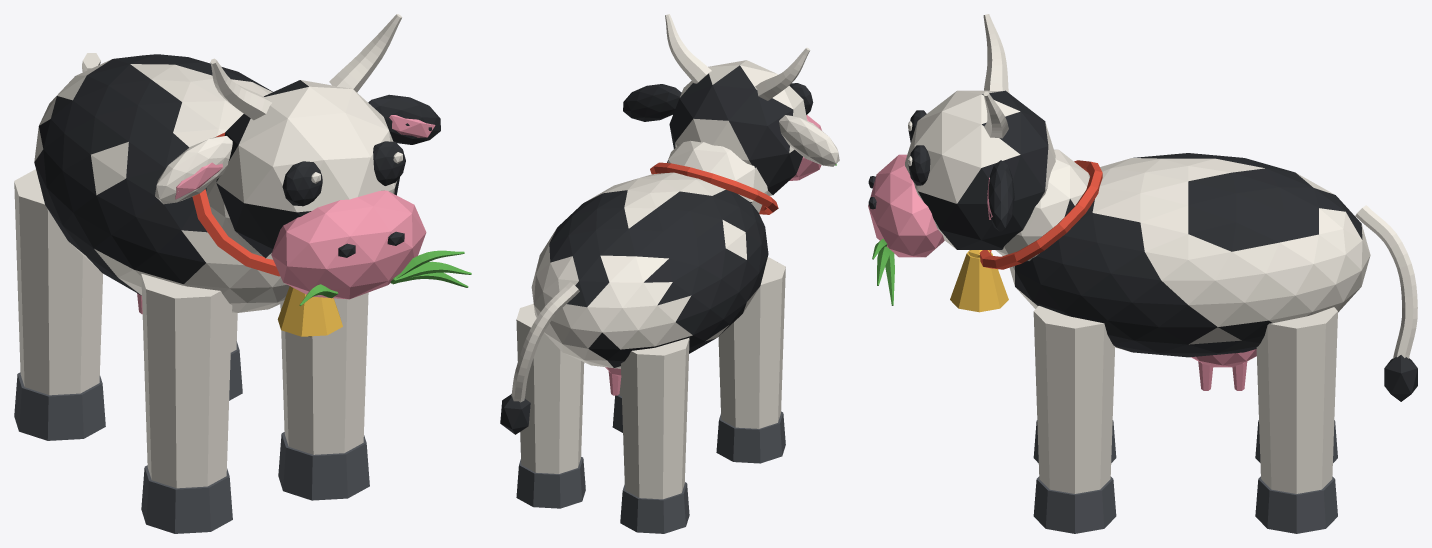
The model's file is chunky-low-poly-cow.glb.
The picture shows the model from 3 angles, left to right: view 1: azimuth 30°, elevation 25°; view 2: azimuth 150°, elevation 25°; view 3: azimuth 270°, elevation 25°; orthographic projection. The views are drawn at different scales.
Parts seen in each view (by area): view 1: Cow; view 2: Cow; view 3: Cow.
Part boxes in pixels (bbox=[...]): Cow: bbox=[14, 14, 471, 533]; Cow: bbox=[500, 14, 839, 533]; Cow: bbox=[868, 14, 1417, 533].
Size of the model in its own units: 2.98 by 5 by 5.73.
